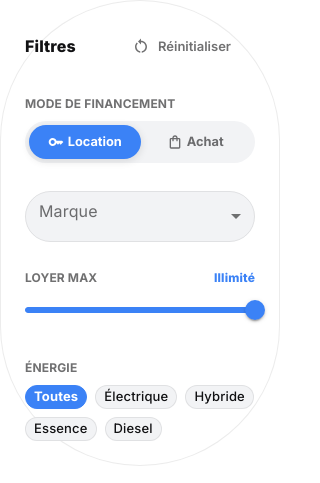
Test: FilterSidebar › bascule en mode achat et affiche le budget
This screenshot has width=320, height=483.
Click the button "Achat": x=195, y=142 [140,124,251,159]
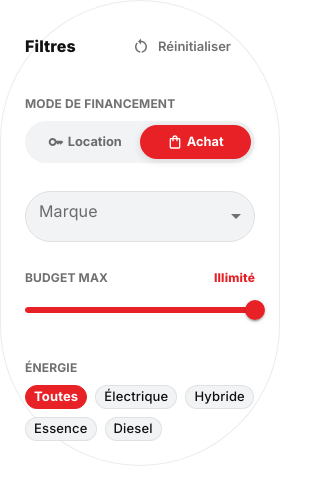
Check: the text "BUDGET MAX" is shown, box [25,270,108,287]
